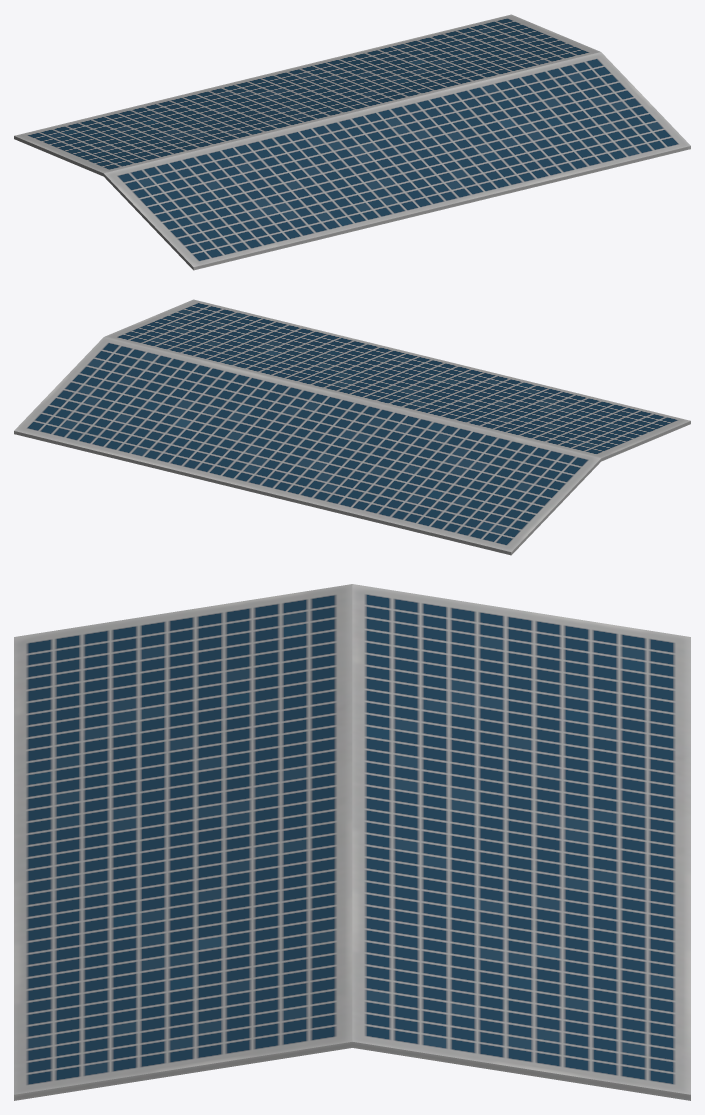
Rendered from Alniyat_Solar_1_Panel_2.obj.
3 renders of one model, top to bottom at view 1: azimuth 30°, elevation 25°; view 2: azimuth 150°, elevation 25°; view 3: azimuth 270°, elevation 25°, orthographic. The views are drawn at different scales.
Parts seen in each view (by area): view 1: Alniyat_Solar_1_Panel_2; view 2: Alniyat_Solar_1_Panel_2; view 3: Alniyat_Solar_1_Panel_2.
Boxes of the visible parts, x1,y1,x2,y2 form: Alniyat_Solar_1_Panel_2: [14, 14, 690, 270]; Alniyat_Solar_1_Panel_2: [14, 299, 690, 555]; Alniyat_Solar_1_Panel_2: [14, 584, 690, 1100].
Size of the model in its own units: 1.6 by 0.0965 by 1.
